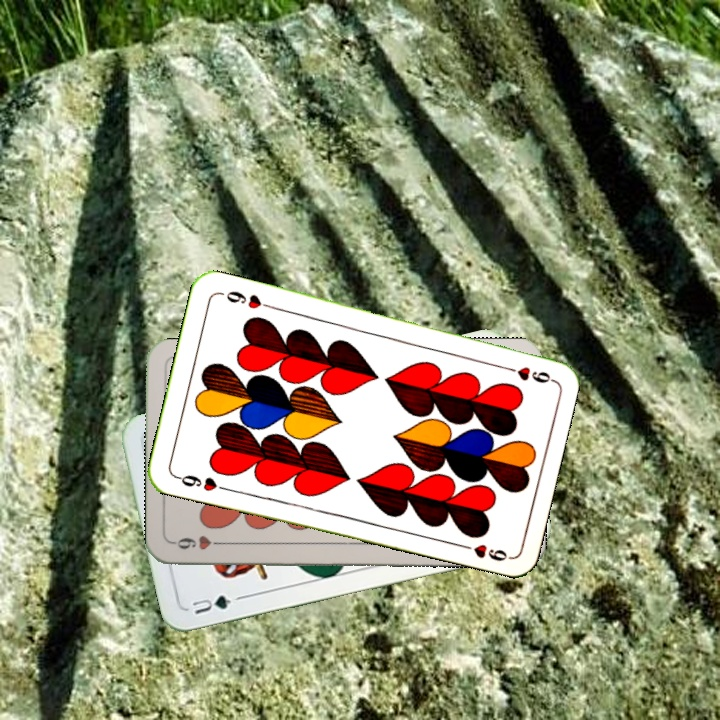GU: (188, 591, 244, 617)
H9: (171, 470, 229, 494), (496, 361, 554, 385), (170, 532, 229, 553)
